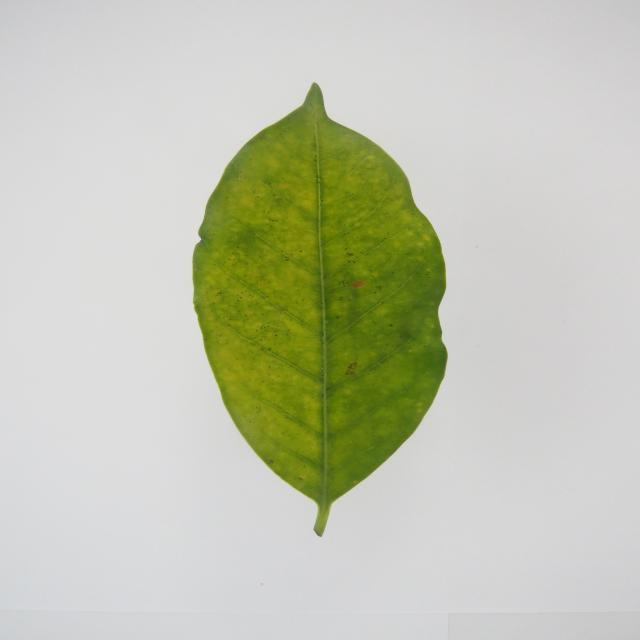DeficienciaNutricional-Nitrogeno: (193, 84, 447, 535)
